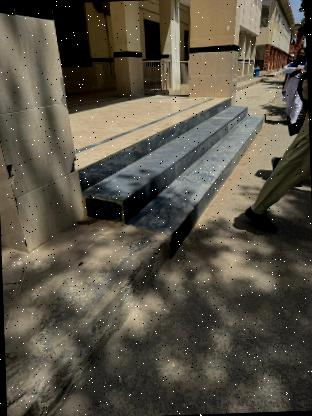stair: (70, 90, 272, 246)
